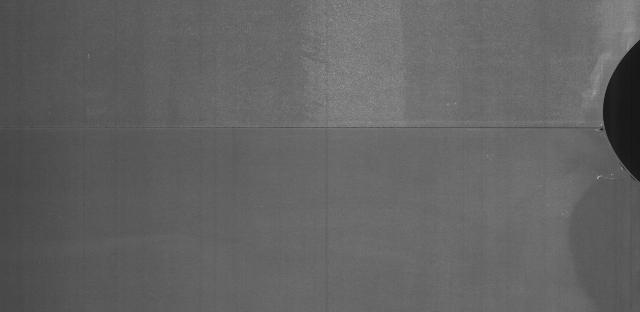welding_line: (2, 116, 600, 143)
